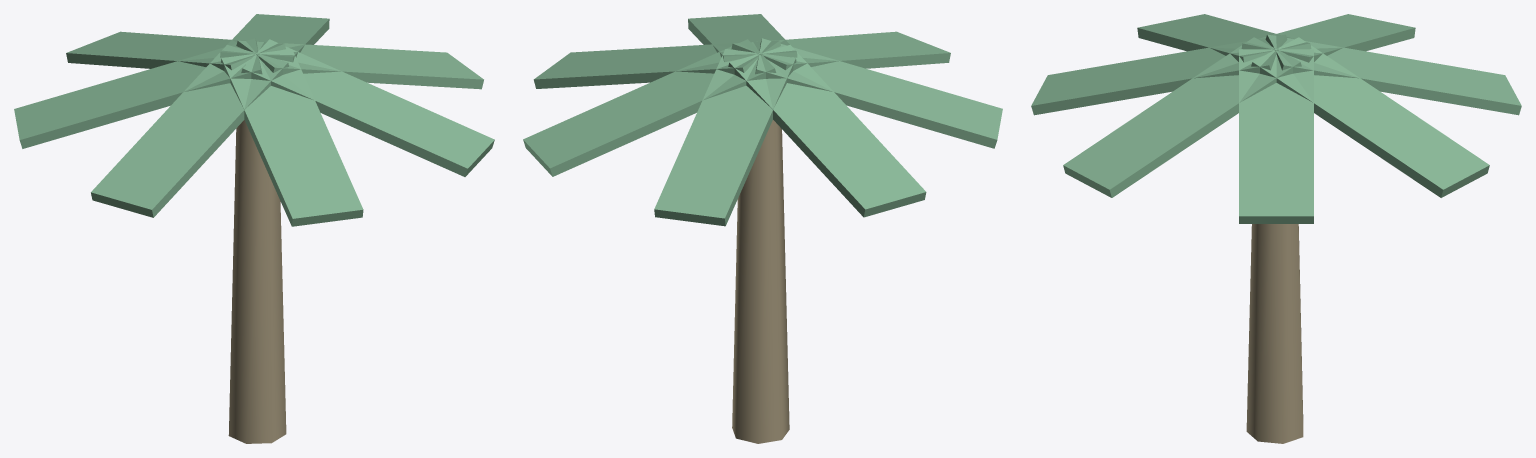
File: fern_tree.glb
3 views of the same model, side by side, from view 1: azimuth 30°, elevation 25°; view 2: azimuth 150°, elevation 25°; view 3: azimuth 270°, elevation 25° (orthographic).
Parts seen in each view (by area): view 1: fern_tree; view 2: fern_tree; view 3: fern_tree.
Part boxes in pixels (<box>): fern_tree: <box>14,14,494,443</box>; fern_tree: <box>523,14,1002,443</box>; fern_tree: <box>1031,14,1521,443</box>.
Bounding box in the file's own units: 3.2 × 2.82 × 3.28.
